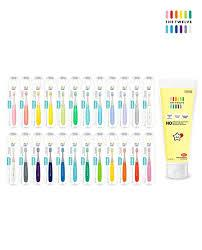toothpaste: (157, 78, 199, 186)
